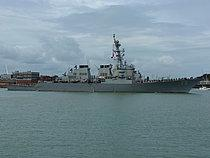MIL_Ship: (5, 31, 206, 94)
